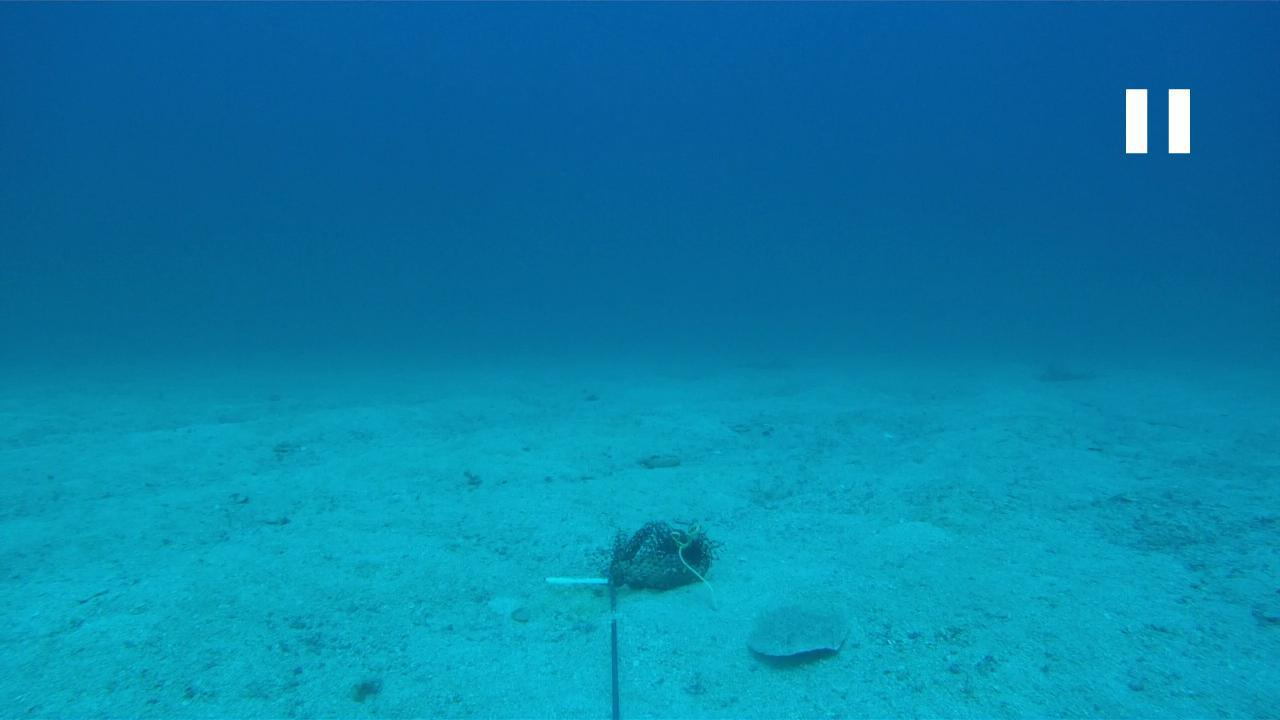bothus: (742, 596, 855, 664)
